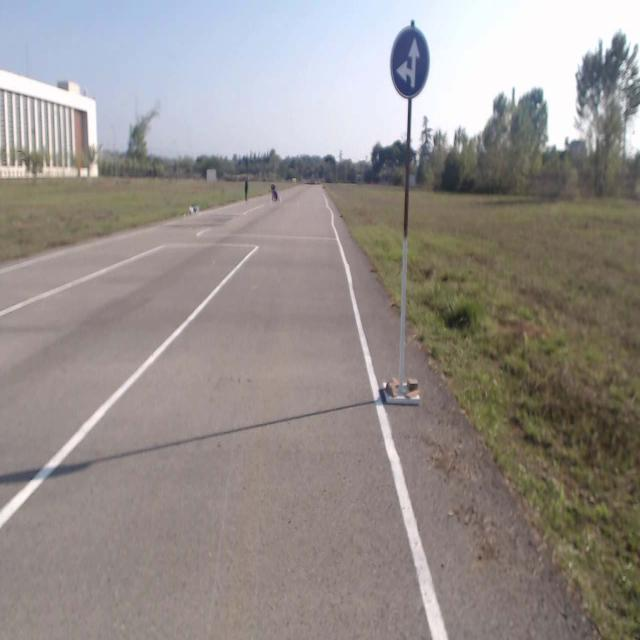ilerisol: (390, 26, 430, 98)
